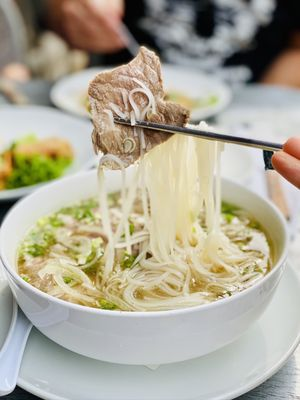sushi: (4, 114, 288, 367), (0, 104, 98, 207)
